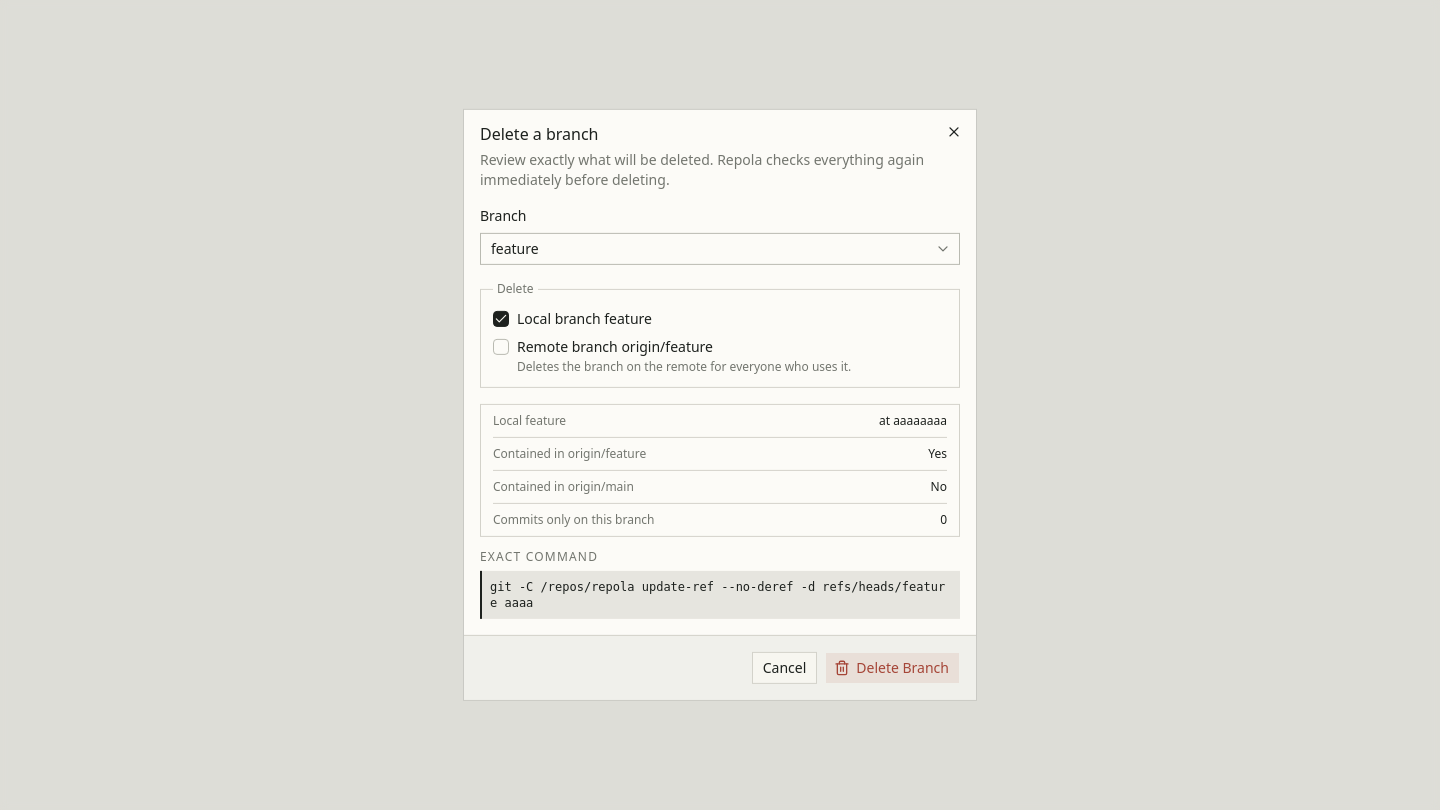
DeleteBranchDialog › explains why a branch checked out here can only be deleted on the remote
Expected: the text "update-ref --no-deref -d refs/heads/feature" is shown, 490,580 -> 945,610
Step 1. Click the dropdown named "Branch to delete" → (515, 249), box 480,233 -> 960,265
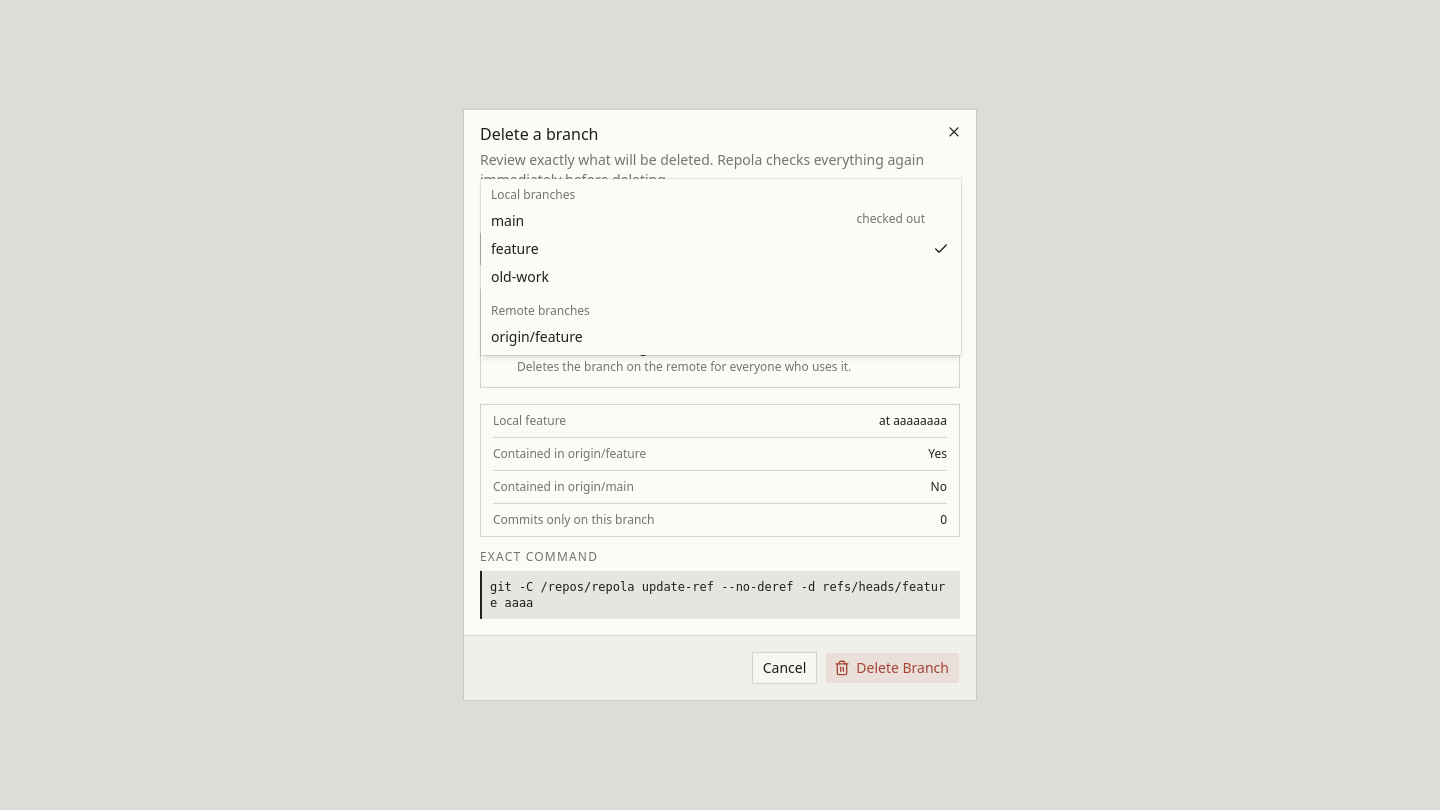
Step 2. Click the option "main checked out" → (508, 221), box 485,207 -> 957,235
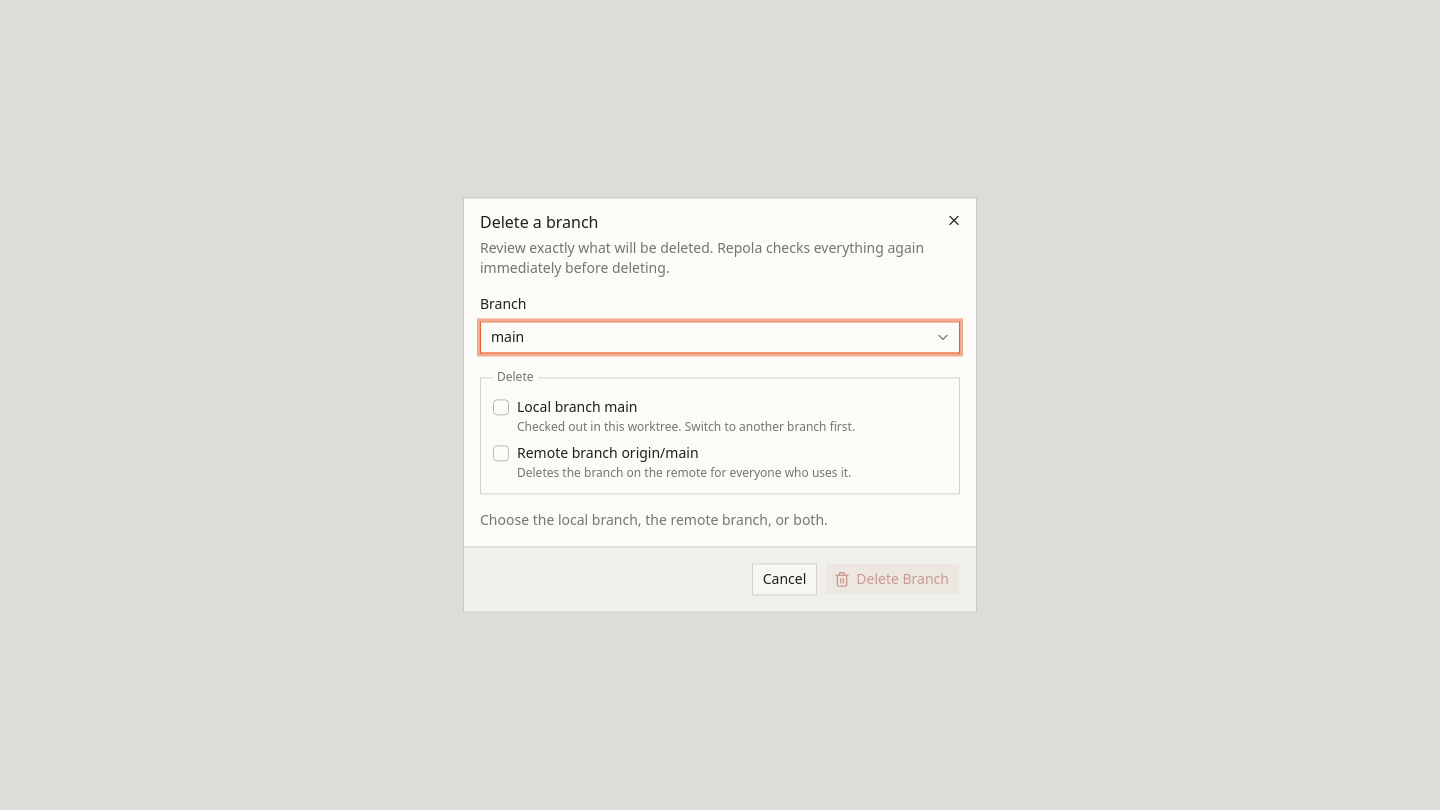
Now the checkbox named "Local branch main" next to "Local branch main" is not checked, box 493,400 -> 509,416
Now the text "Checked out in this worktree" is shown, box 517,419 -> 855,436
Now the text "Choose the local branch, the remote branch, or both." is shown, box 480,511 -> 828,530
